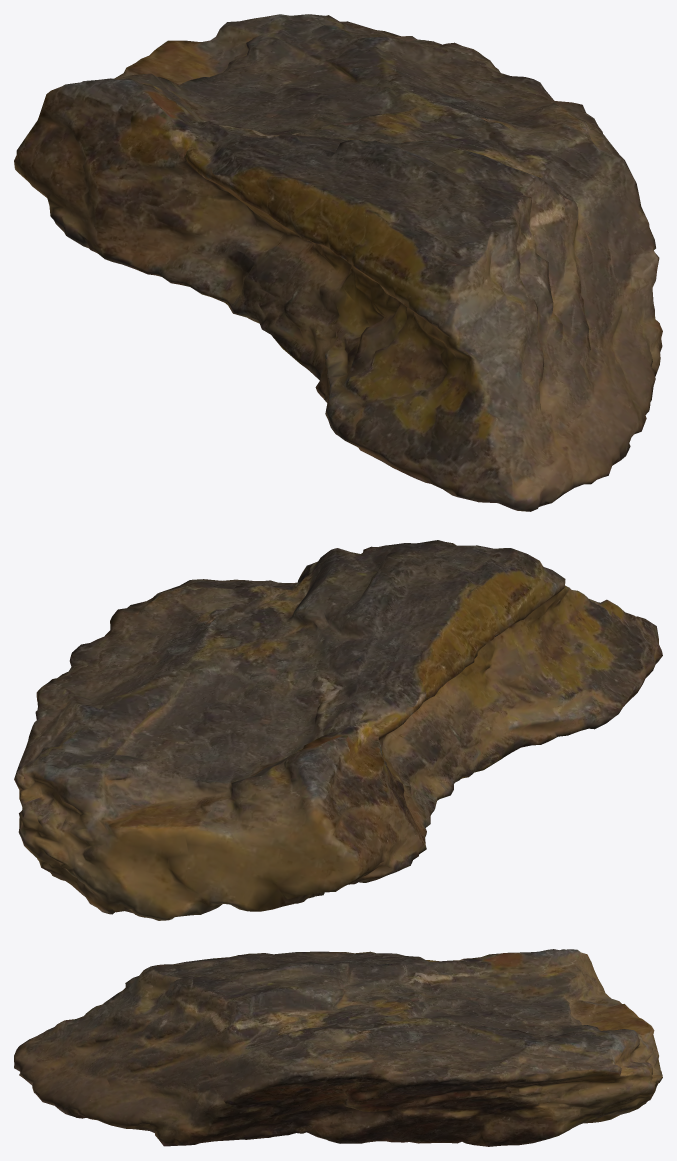
Rendered from rock_09.glb.
The picture shows the model from 3 angles, top to bottom: view 1: azimuth 30°, elevation 25°; view 2: azimuth 150°, elevation 25°; view 3: azimuth 270°, elevation 25°; orthographic projection. The views are drawn at different scales.
Visible parts, largest first — view 1: rock_09_LOD0; view 2: rock_09_LOD0; view 3: rock_09_LOD0.
Part boxes in pixels (x1,y1,x2,y2): rock_09_LOD0: (14,14,662,511); rock_09_LOD0: (14,540,662,920); rock_09_LOD0: (14,949,662,1146).
Size of the model in its own units: 0.074 by 0.0329 by 0.1446.
Materials: 1 (1 with a texture image).
